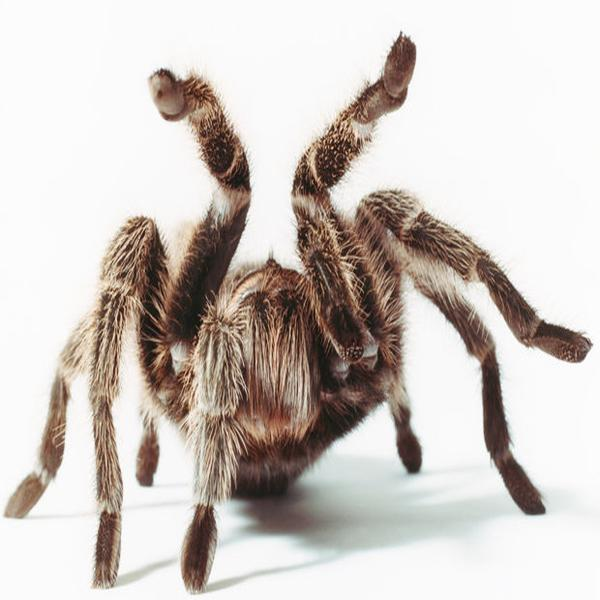Tarantula Spider: (49, 45, 559, 568)
